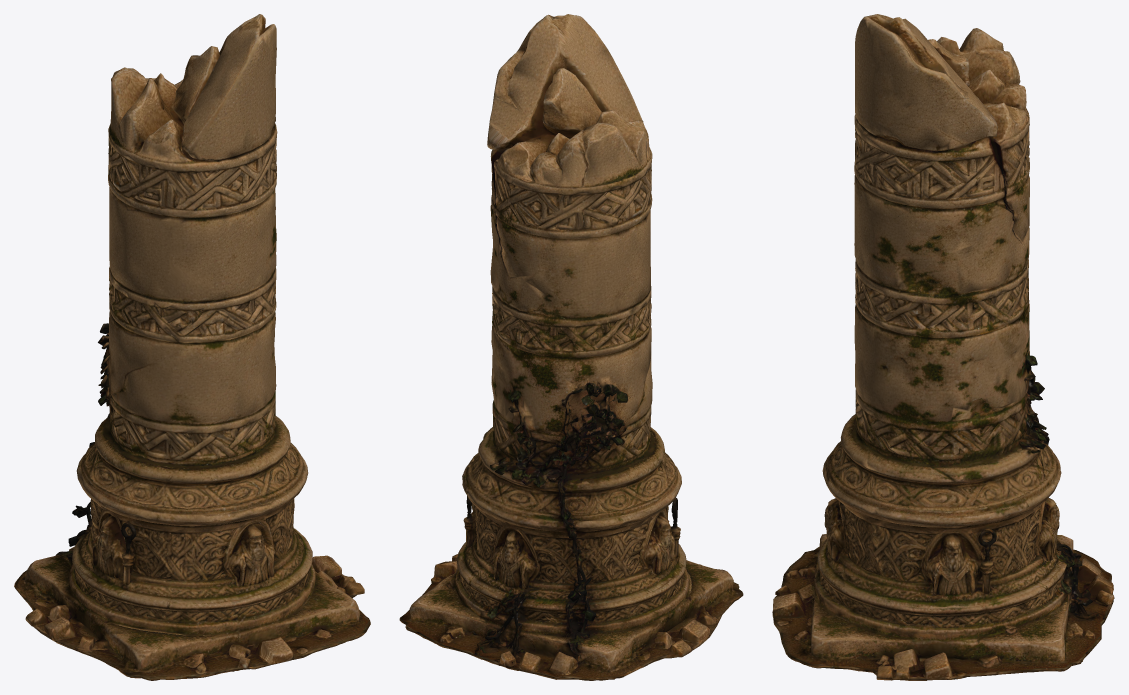
Rendered from column.glb.
3 renders of one model, left to right at view 1: azimuth 30°, elevation 25°; view 2: azimuth 150°, elevation 25°; view 3: azimuth 270°, elevation 25°, orthographic. The views are drawn at different scales.
Parts seen in each view (by area): view 1: tripo_node_55e4a8f4-2fcb-44a2-85b8-f26e76bea95d; view 2: tripo_node_55e4a8f4-2fcb-44a2-85b8-f26e76bea95d; view 3: tripo_node_55e4a8f4-2fcb-44a2-85b8-f26e76bea95d.
Boxes of the visible parts, bbox=[...] form: tripo_node_55e4a8f4-2fcb-44a2-85b8-f26e76bea95d: bbox=[14, 14, 370, 680]; tripo_node_55e4a8f4-2fcb-44a2-85b8-f26e76bea95d: bbox=[399, 14, 743, 680]; tripo_node_55e4a8f4-2fcb-44a2-85b8-f26e76bea95d: bbox=[772, 14, 1114, 680].
Bounding box in the file's own units: 0.6032 × 1.2 × 0.603.
Materials: 1 (1 with a texture image).
